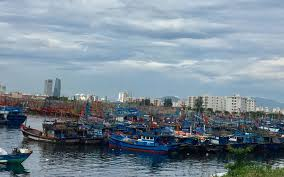tau_dansu: (108, 130, 171, 154), (21, 121, 80, 142), (1, 144, 31, 166), (4, 105, 29, 129)
